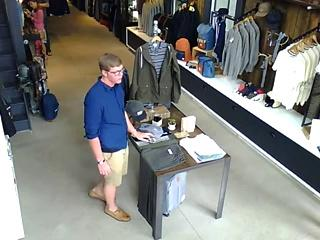Normal: (22, 0, 52, 57)
shoplifting: (84, 52, 154, 222)
